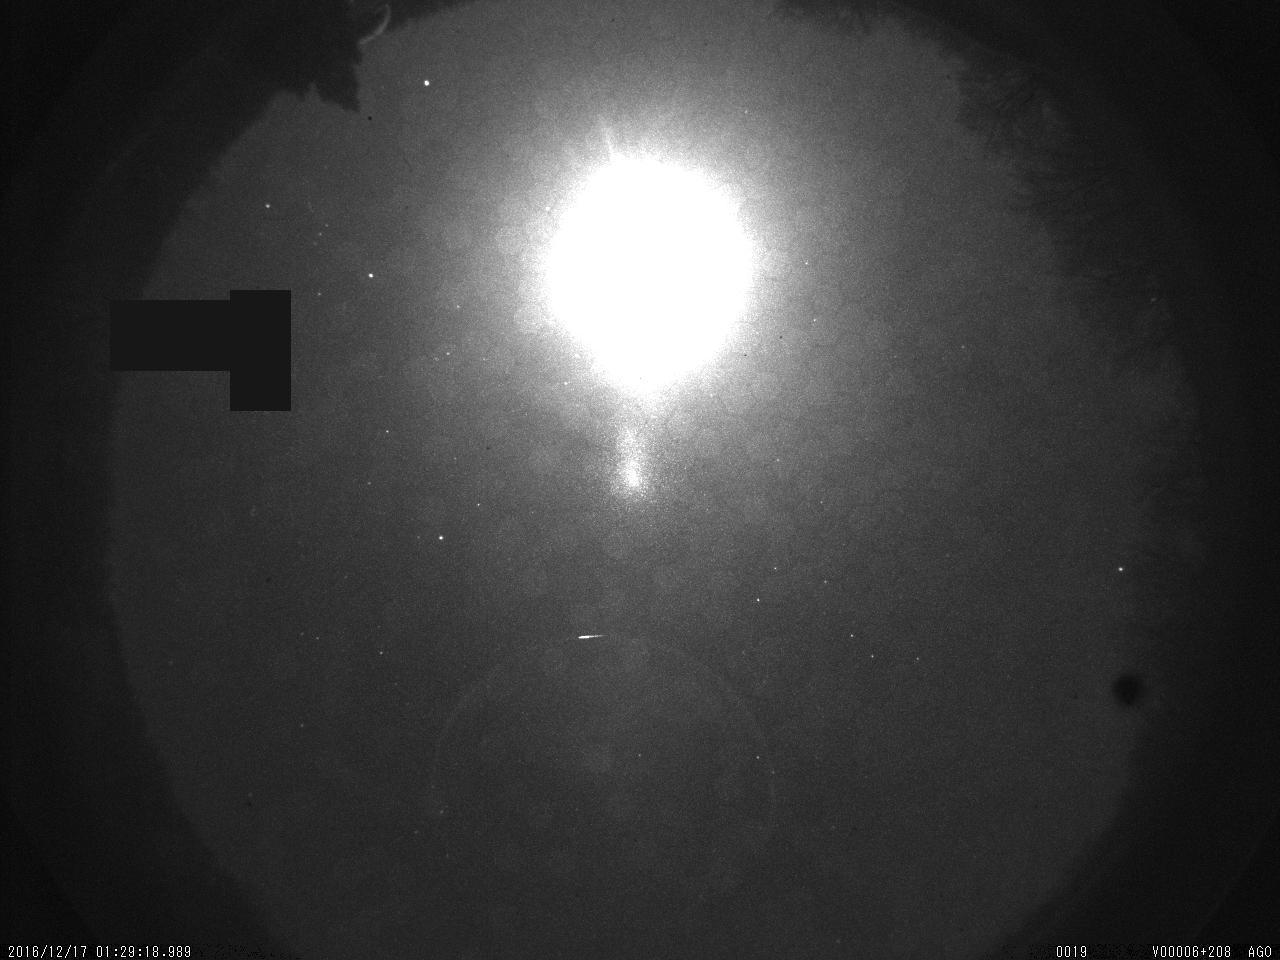Meteor: (570, 624, 609, 648)
